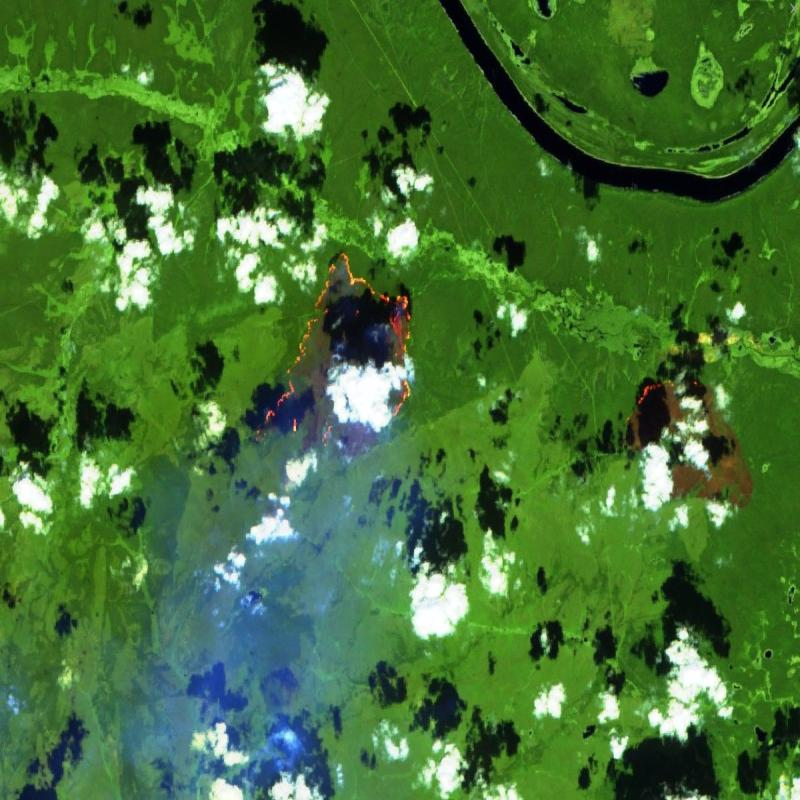fire: (263, 248, 417, 432), (631, 370, 702, 417)
